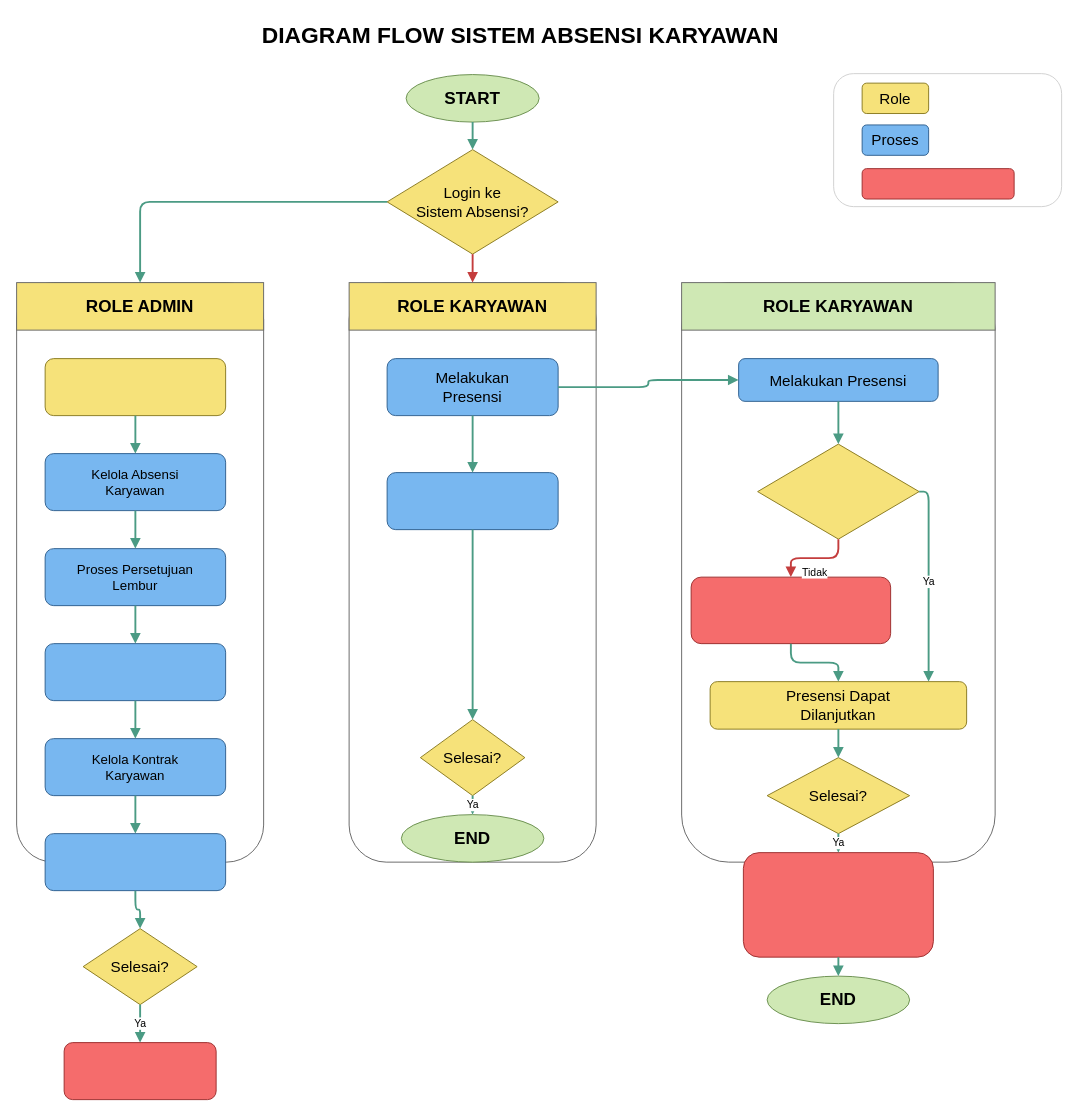
Image size: 1078x1116. Some labels were removed from this diagram. The shapes that lost their labels are listed below. From the top down, each one's box as (x1, y1, x2, y2) in pixels, then its label:
(861, 168, 1014, 199): Aksi / Keputusan
(44, 358, 226, 416): Kelola Data Karyawan
(386, 472, 558, 530): Melihat Data Pribadi
(757, 443, 919, 539): Presensi Valid?
(690, 576, 891, 644): Perbaiki Foto / Kirim Bukti Lokasi
(44, 643, 226, 701): Kelola Pinjaman Karyawan
(44, 833, 226, 891): Kelola Potongan Gaji
(742, 852, 933, 957): Presensi Tercatat Status Diperbarui Karyawan dapat menggunakan sistem
(63, 1042, 216, 1100): Tidak dapat menggunakan sistem
